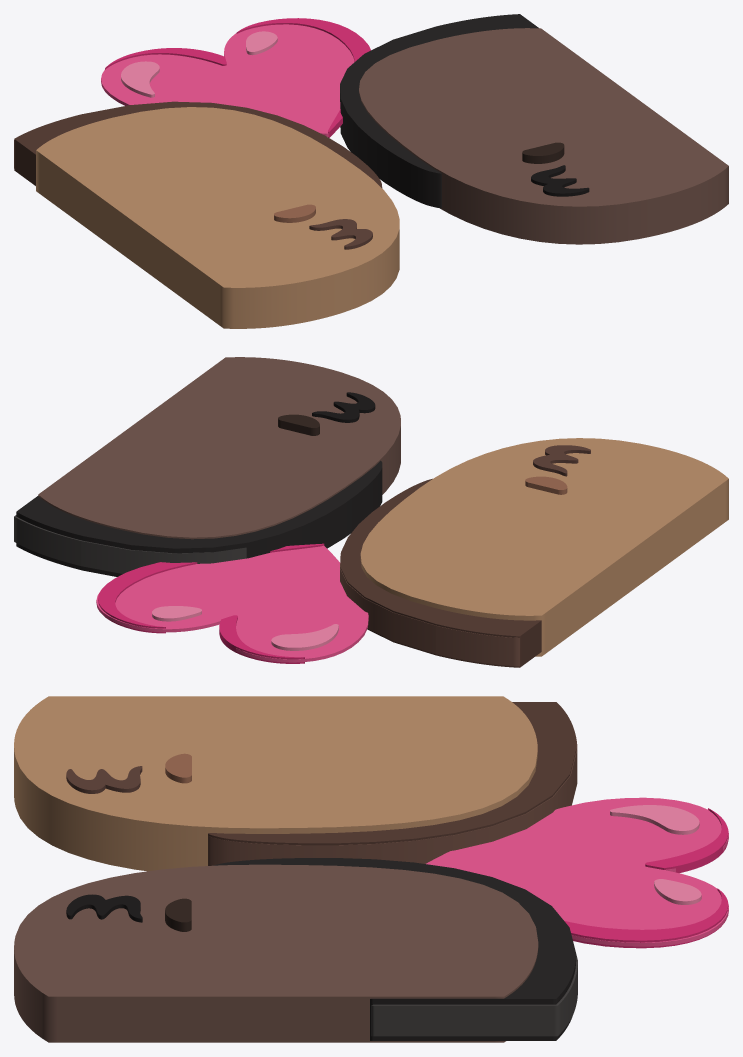
The model's file is emoji_u1f468_1f3fd_200d_2764_200d_1f48b_200d_1f468_1f3ff.glb.
The picture shows the model from 3 angles, top to bottom: view 1: azimuth 30°, elevation 25°; view 2: azimuth 150°, elevation 25°; view 3: azimuth 270°, elevation 25°; orthographic projection. The views are drawn at different scales.
Visible parts, largest first — view 1: emoji_u1f468_1f3fd_200d_2764_200d_1f48b_200d_1f468_1f3ff; view 2: emoji_u1f468_1f3fd_200d_2764_200d_1f48b_200d_1f468_1f3ff; view 3: emoji_u1f468_1f3fd_200d_2764_200d_1f48b_200d_1f468_1f3ff.
Part boxes in pixels (bbox=[...]): emoji_u1f468_1f3fd_200d_2764_200d_1f48b_200d_1f468_1f3ff: bbox=[14, 14, 728, 328]; emoji_u1f468_1f3fd_200d_2764_200d_1f48b_200d_1f468_1f3ff: bbox=[14, 357, 728, 667]; emoji_u1f468_1f3fd_200d_2764_200d_1f48b_200d_1f468_1f3ff: bbox=[14, 696, 728, 1042].
Bounding box in the file's own units: 0.0336 × 0.0034 × 0.0339.
